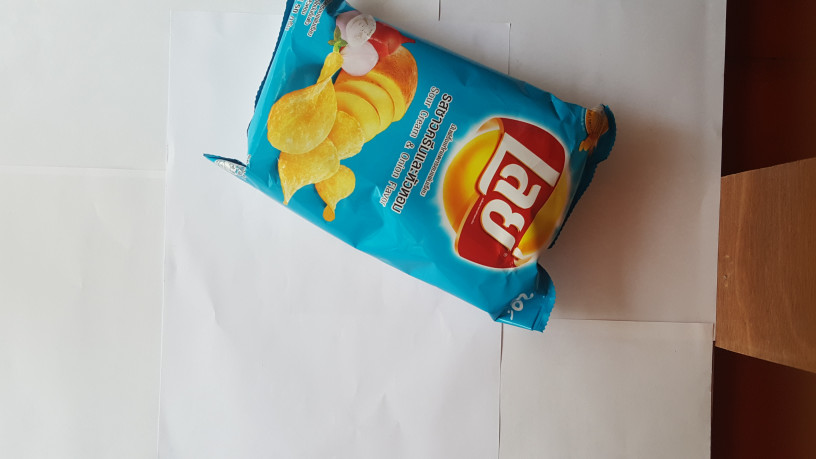lays-onion: (203, 1, 634, 341)
